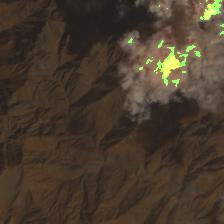landslides: (6, 27, 28, 44)
